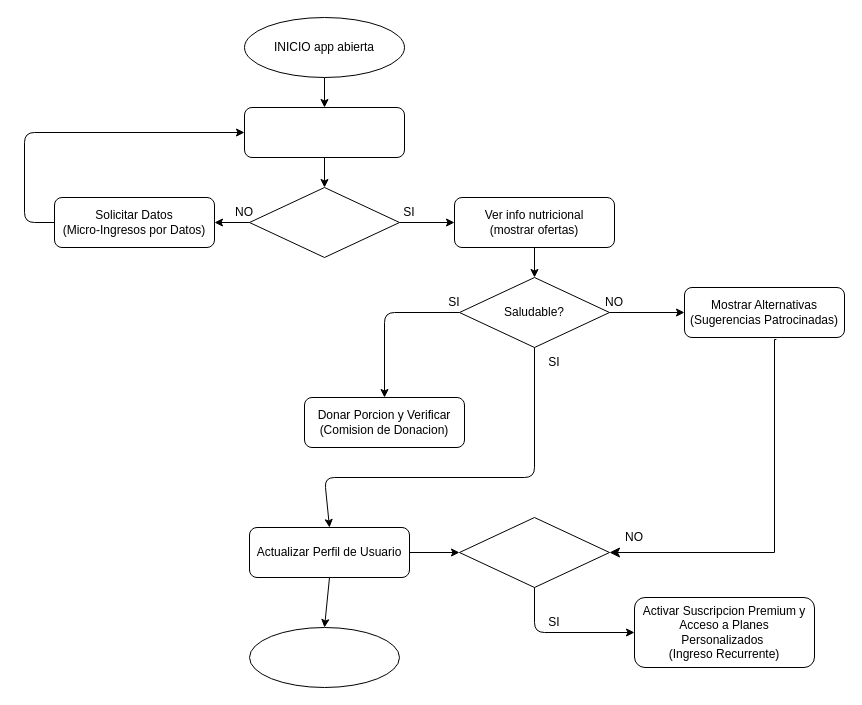
Image size: 862x705. Some labels were removed from this diagram. The shapes that lost their labels are listed below. From the top down, each one's box as (x1, y1, x2, y2) in pixels, then its label:
(244, 106, 404, 158): Escanear Alimento
(248, 186, 400, 258): Existe en BD?
(458, 516, 610, 588): El Usuario quiere Premium?
(248, 626, 400, 688): FIN (App Cerrada)
